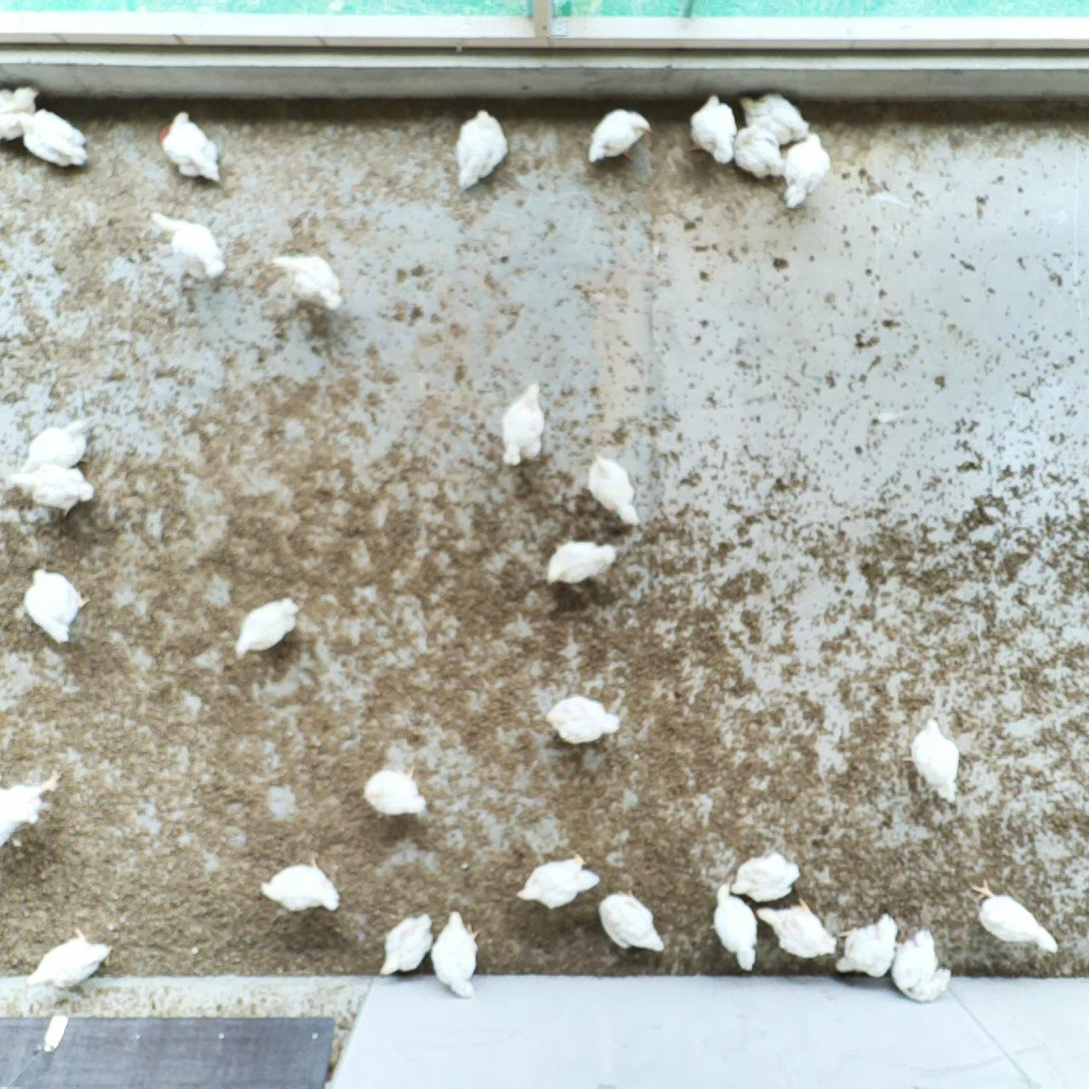chicken: (968, 880, 1060, 958), (150, 208, 228, 286), (23, 928, 114, 994), (9, 104, 91, 174), (23, 563, 91, 646), (426, 903, 484, 998), (901, 715, 961, 804), (266, 247, 348, 312), (756, 895, 838, 960), (594, 884, 668, 956), (0, 765, 61, 852), (4, 462, 100, 516), (160, 110, 225, 189), (516, 852, 603, 911), (453, 106, 511, 193), (888, 928, 953, 1005), (499, 375, 552, 469), (710, 881, 764, 972), (260, 855, 340, 915), (585, 449, 643, 530), (232, 592, 300, 661), (834, 910, 900, 977), (781, 130, 833, 213), (584, 105, 655, 163), (546, 694, 625, 746), (23, 417, 96, 473), (379, 908, 437, 978), (740, 91, 811, 148), (725, 850, 805, 900), (544, 537, 618, 588), (688, 92, 736, 166), (364, 762, 427, 816), (736, 119, 786, 183), (0, 83, 42, 142)
